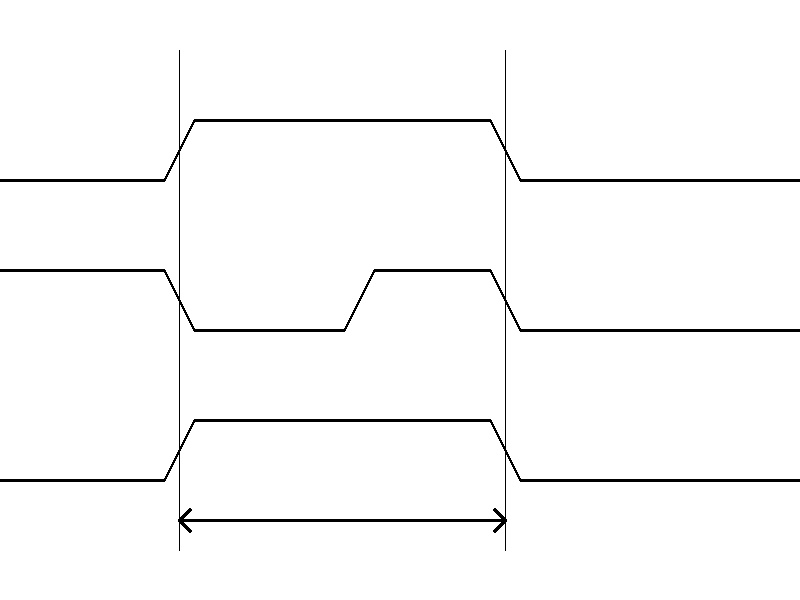double_arrow: (179, 505, 505, 535)
